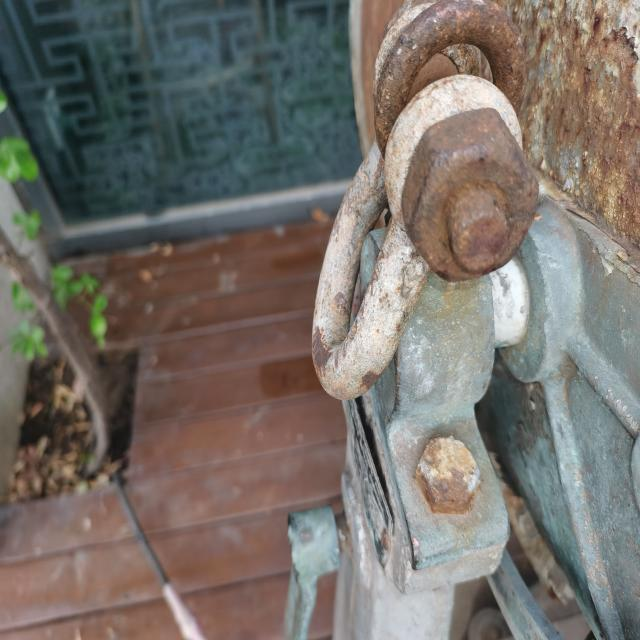bolt head: (411, 432, 484, 517)
bolt nut: (399, 104, 541, 287)
